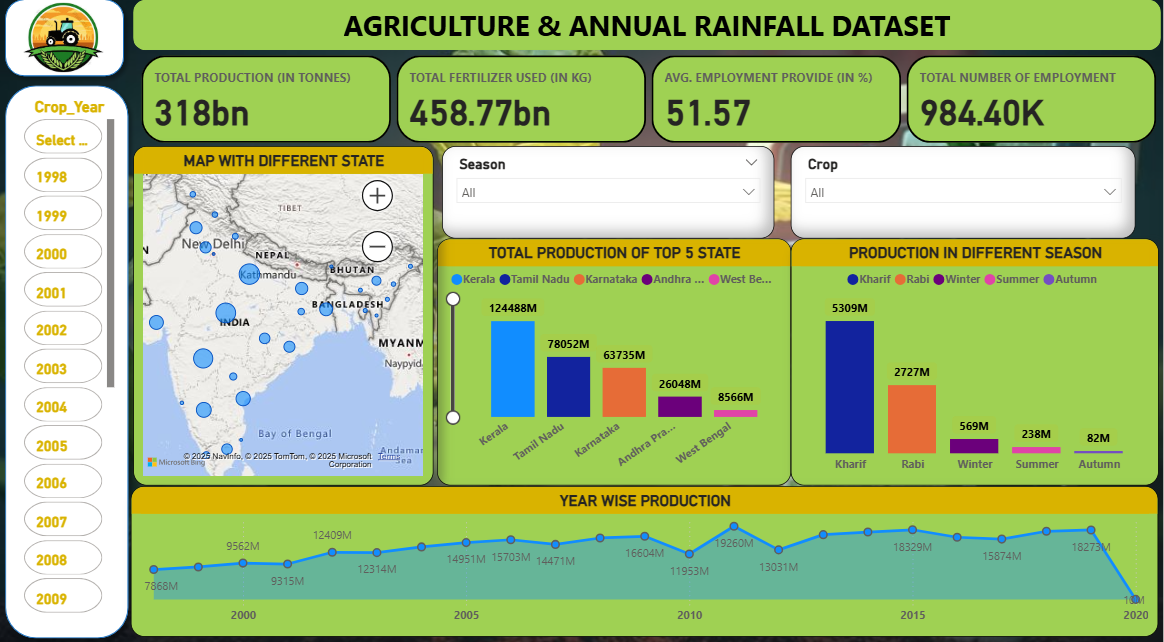

The page's visual inventory and layout, read from the dashboard file:
{"tool":"powerbi","page":{"name":"Page 1","canvas":[1280,720],"ordinal":0},"visuals":[{"type":"shape","box":[0,0,148.4,102.5],"z":0},{"type":"image","box":[3.6,8.4,137.5,85.7],"z":1000},{"type":"shape","box":[0,95.3,153.2,624.9],"z":2000},{"type":"advancedSlicerVisual","fields":{"Values":["crop_yield.Crop_Year"]},"box":[25.3,117,109.8,581.5],"z":3000},{"type":"shape","box":[149.6,9.7,1128,55.5],"z":4000},{"type":"columnChart","title":"TOTAL PRODUCTION OF TOP 5 STATE","fields":{"Category":["crop_yield.State"],"Y":["Sum(crop_yield.Production)"],"Series":["crop_yield.State"]},"box":[482.6,271.4,388.5,271.4],"z":5000},{"type":"cardVisual","fields":{"Data":["Sum(crop_yield.Production)","Sum(crop_yield.Fertilizer)","Avg(WB_employment_data.Percent Employment in Agriculture)","Sum(crop_yield.Employment in Agriculture)"]},"box":[153.2,66.4,1124.4,106.2],"z":6000},{"type":"columnChart","title":"PRODUCTION IN DIFFERENT SEASON","fields":{"Category":["crop_yield.Season"],"Y":["Sum(crop_yield.Production)"],"Series":["crop_yield.Season"]},"box":[871.1,271.4,404.2,271.4],"z":6001},{"type":"map","title":"MAP WITH DIFFERENT STATE","fields":{"Category":["crop_yield.State"],"Size":["Sum(crop_yield.Area)"]},"box":[149.6,170.1,329.4,372.8],"z":6002},{"type":"areaChart","title":"YEAR WISE PRODUCTION","fields":{"Category":["crop_yield.Crop_Year"],"Y":["Sum(crop_yield.Production)"]},"box":[147.2,542.9,1128,165.3],"z":6003},{"type":"slicer","fields":{"Values":["crop_yield.Season"]},"box":[488.5,170.2,365,101.5],"z":6004},{"type":"slicer","fields":{"Values":["crop_yield.Crop"]},"box":[871.4,170.2,378.7,101.5],"z":6005}]}

Visuals, with their boxes in screenshot pixels (x1, y1, x2, y2), scaled from the page's 1280x720 canvas onto the 1164x642 screenshot:
shape: 0/0/135/91
image: 3/7/128/84
shape: 0/85/139/641
advancedSlicerVisual - crop_yield.Crop_Year: 23/104/123/623
shape: 136/9/1162/58
"TOTAL PRODUCTION OF TOP 5 STATE" columnChart: 439/242/792/484
cardVisual - Sum(crop_yield.Production) x Sum(crop_yield.Fertilizer): 139/59/1162/154
"PRODUCTION IN DIFFERENT SEASON" columnChart: 792/242/1160/484
"MAP WITH DIFFERENT STATE" map: 136/152/436/484
"YEAR WISE PRODUCTION" areaChart: 134/484/1160/631
slicer - crop_yield.Season: 444/152/776/242
slicer - crop_yield.Crop: 792/152/1137/242
